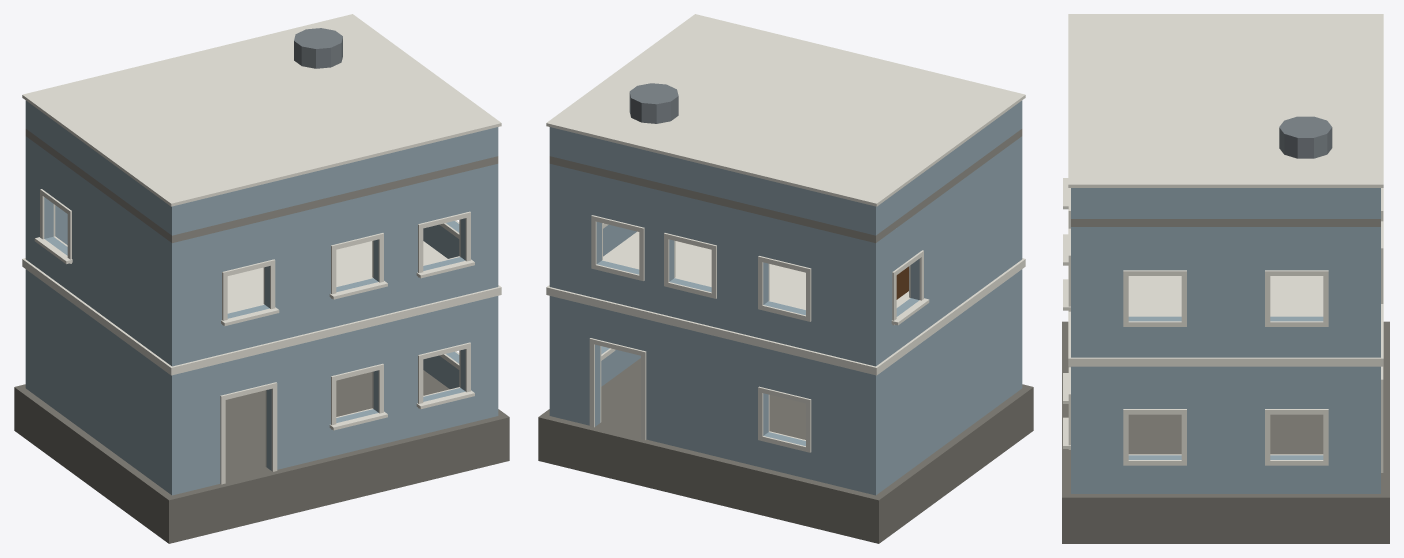
Rendered from house_tall.glb.
3 renders of one model, left to right at view 1: azimuth 30°, elevation 25°; view 2: azimuth 150°, elevation 25°; view 3: azimuth 270°, elevation 25°, orthographic. The views are drawn at different scales.
Visible parts, largest first — view 1: house_tall; view 2: house_tall; view 3: house_tall.
Boxes of the visible parts, box(x1,y1,x2,y2) form: house_tall: box(14, 14, 509, 543); house_tall: box(538, 14, 1033, 543); house_tall: box(1062, 14, 1389, 543).
Bounding box in the file's own units: 9.4 × 9.4 × 7.4.
